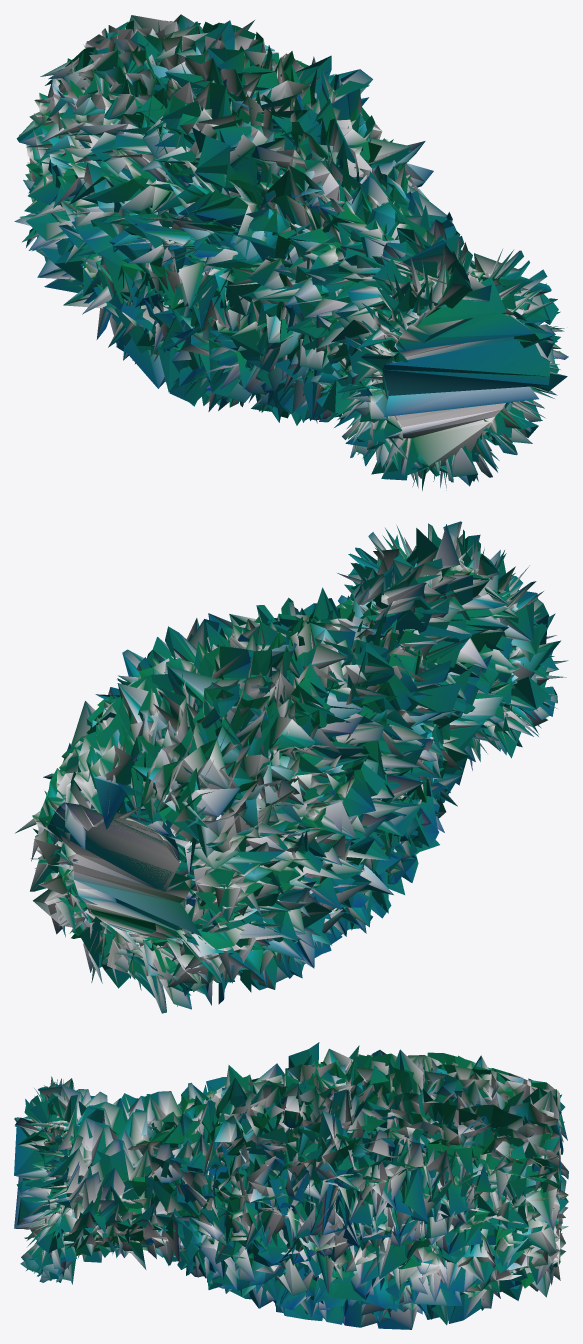
File: lamp_shade_10_final300.obj
The picture shows the model from 3 angles, top to bottom: view 1: azimuth 30°, elevation 25°; view 2: azimuth 150°, elevation 25°; view 3: azimuth 270°, elevation 25°; orthographic projection. The views are drawn at different scales.
Bounding box in the file's own units: 1.03 × 0.9857 × 1.92.
